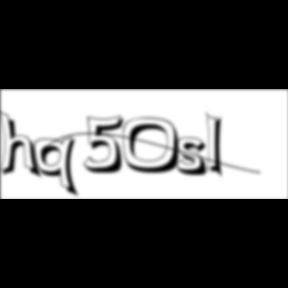5: (84, 114, 130, 176)
I: (206, 110, 230, 182)
O: (122, 117, 188, 176)
h: (0, 108, 46, 182)
q: (34, 135, 83, 200)
s: (176, 137, 215, 179)
